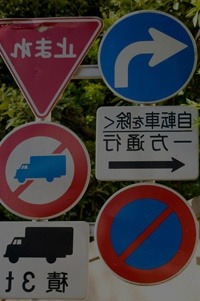Prohibition_sign: (94, 184, 200, 288)
